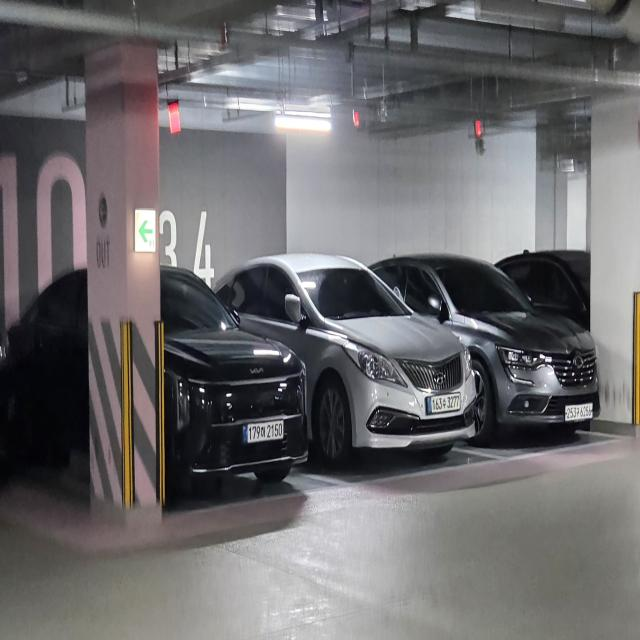car: (24, 222, 316, 529), (209, 229, 483, 480), (363, 212, 611, 462)
